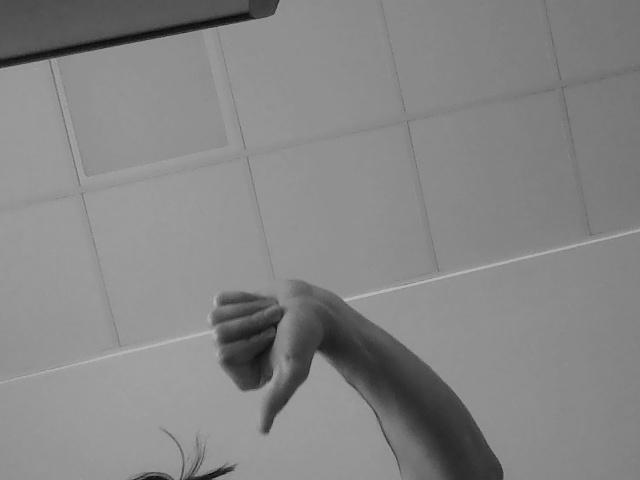bad: (216, 264, 370, 444)
